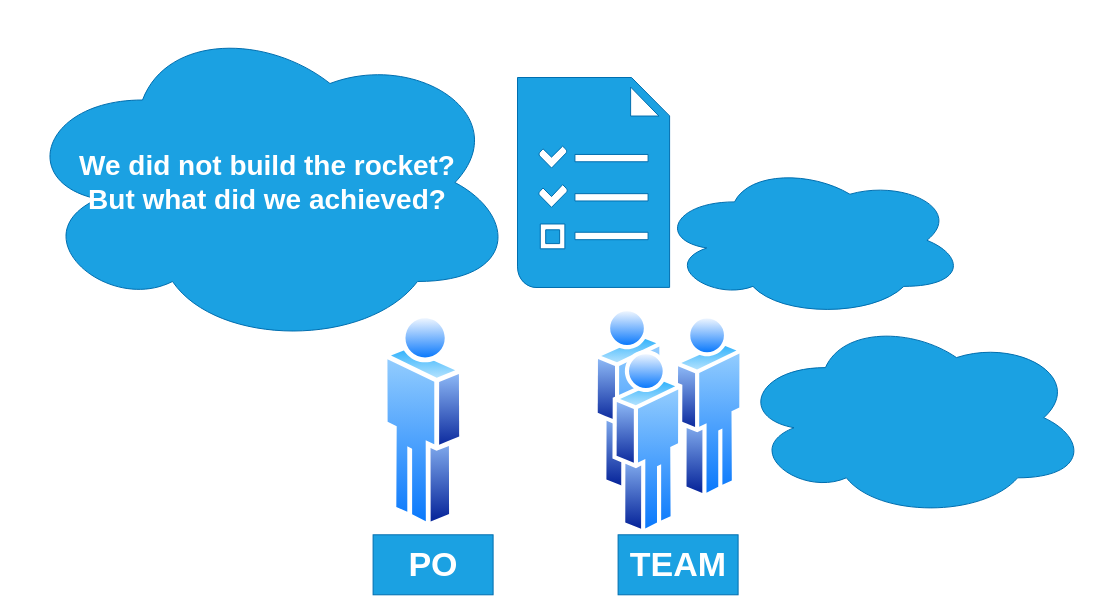
Some shapes in this 1105 by 613 pixel diagram are drawn without their labels. Here are the shapes that lost their labels. From the top down, the centre of each, then its label:
(x=810, y=239): We have horse
(x=912, y=417): And we know how to make vodka
